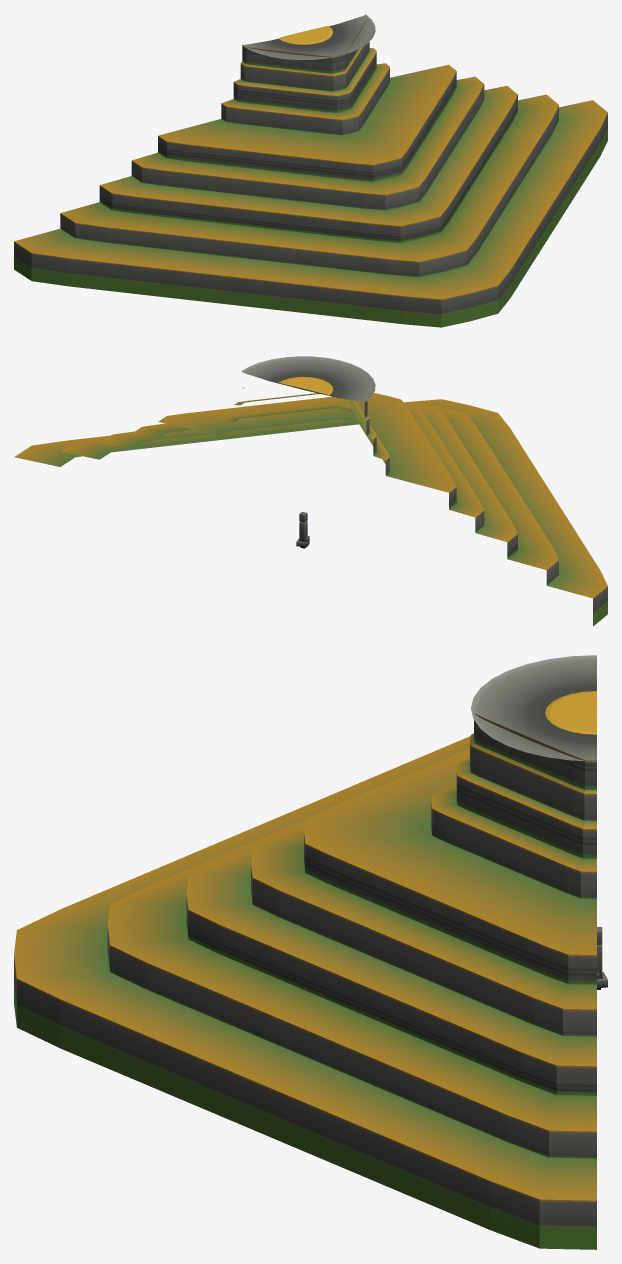
File: temple-s2-DgbI77xy.glb
The picture shows the model from 3 angles, top to bottom: view 1: azimuth 30°, elevation 25°; view 2: azimuth 150°, elevation 25°; view 3: azimuth 270°, elevation 25°; orthographic projection. The views are drawn at different scales.
Visible parts, largest first — view 1: sc_landmark_1; view 2: sc_landmark_1; view 3: sc_landmark_1.
Part boxes in pixels (box(x1,y1,x2,y2)): sc_landmark_1: box(14, 14, 607, 327); sc_landmark_1: box(14, 356, 607, 626); sc_landmark_1: box(14, 655, 596, 1249).
Size of the model in its own units: 758 by 212 by 386.
